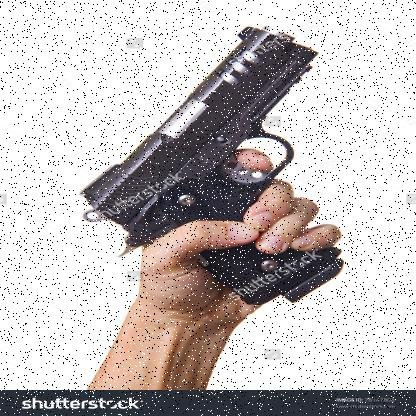pistol: (82, 26, 345, 302)
